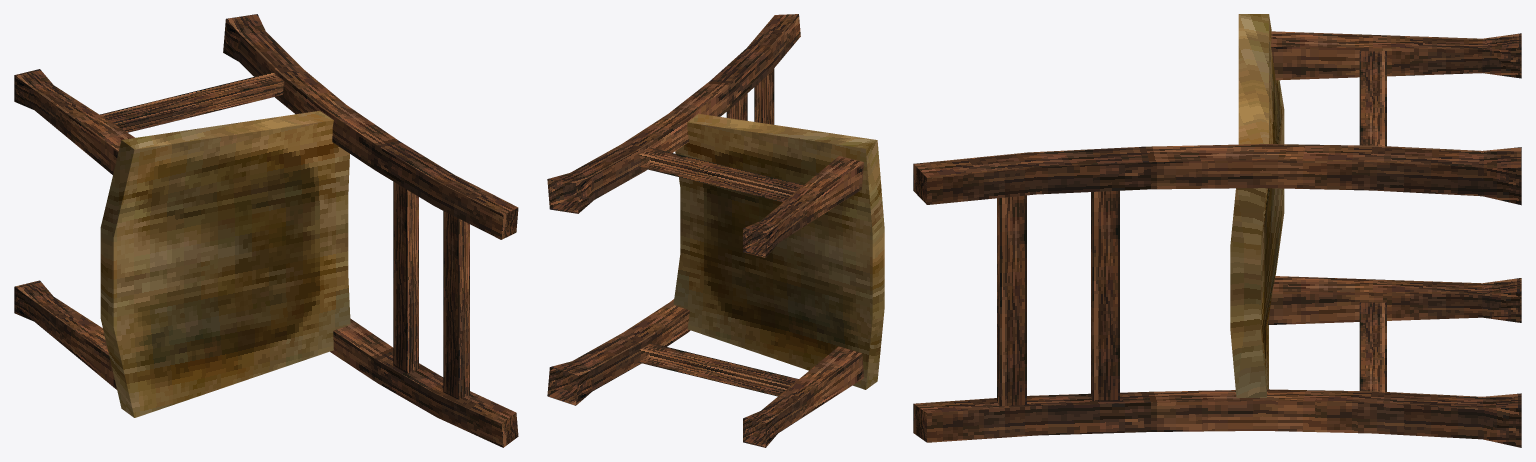
Rendered from INST_SWORDLIGHT_CHAIR.fbx.
The picture shows the model from 3 angles, left to right: view 1: azimuth 30°, elevation 25°; view 2: azimuth 150°, elevation 25°; view 3: azimuth 270°, elevation 25°; orthographic projection. The views are drawn at different scales.
Visible parts, largest first — view 1: INST_SWORDLIGHT_CHAIR; view 2: INST_SWORDLIGHT_CHAIR; view 3: INST_SWORDLIGHT_CHAIR.
Part boxes in pixels (x1,y1,x2,y2): INST_SWORDLIGHT_CHAIR: (14,14,518,447); INST_SWORDLIGHT_CHAIR: (547,14,884,447); INST_SWORDLIGHT_CHAIR: (913,14,1521,447).
Size of the model in its own units: 5830 by 5679 by 10074.
2 materials, 2 textured.
